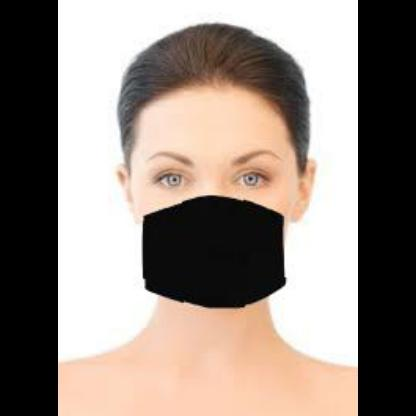Fabric/Cloth Mask: (120, 94, 290, 306)
